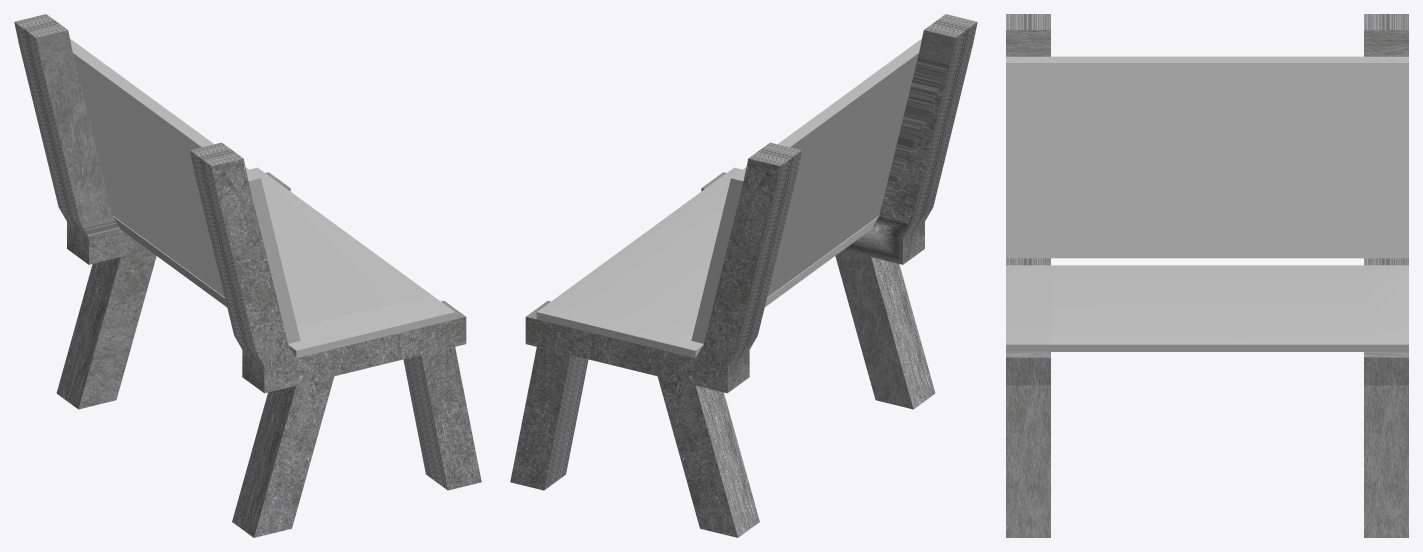
The model's file is bench.fbx.
3 views of the same model, side by side, from view 1: azimuth 30°, elevation 25°; view 2: azimuth 150°, elevation 25°; view 3: azimuth 270°, elevation 25° (orthographic). The views are drawn at different scales.
Parts seen in each view (by area): view 1: polySurface2; view 2: polySurface2; view 3: polySurface2.
Part boxes in pixels (bbox=[...]): polySurface2: bbox=[14, 14, 481, 537]; polySurface2: bbox=[510, 14, 977, 537]; polySurface2: bbox=[1006, 14, 1408, 537].
Size of the model in its own units: 0.7896 by 1.07 by 0.9999.
